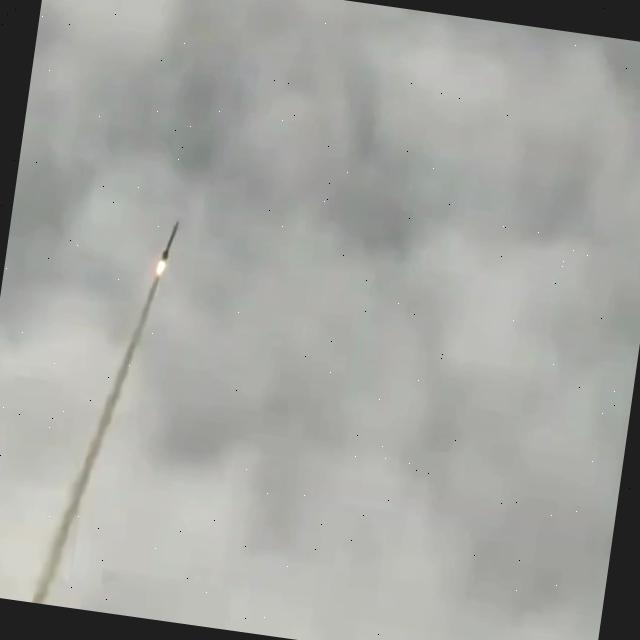smoke_trail_with_rocket: (29, 221, 179, 605)
